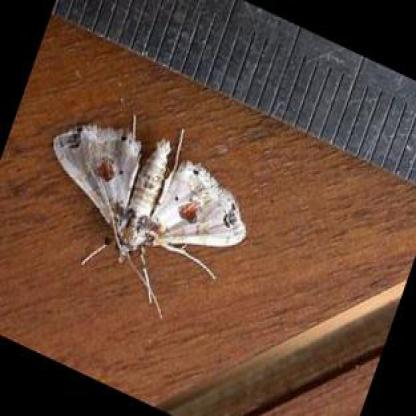leucinodes: (54, 126, 248, 262)
